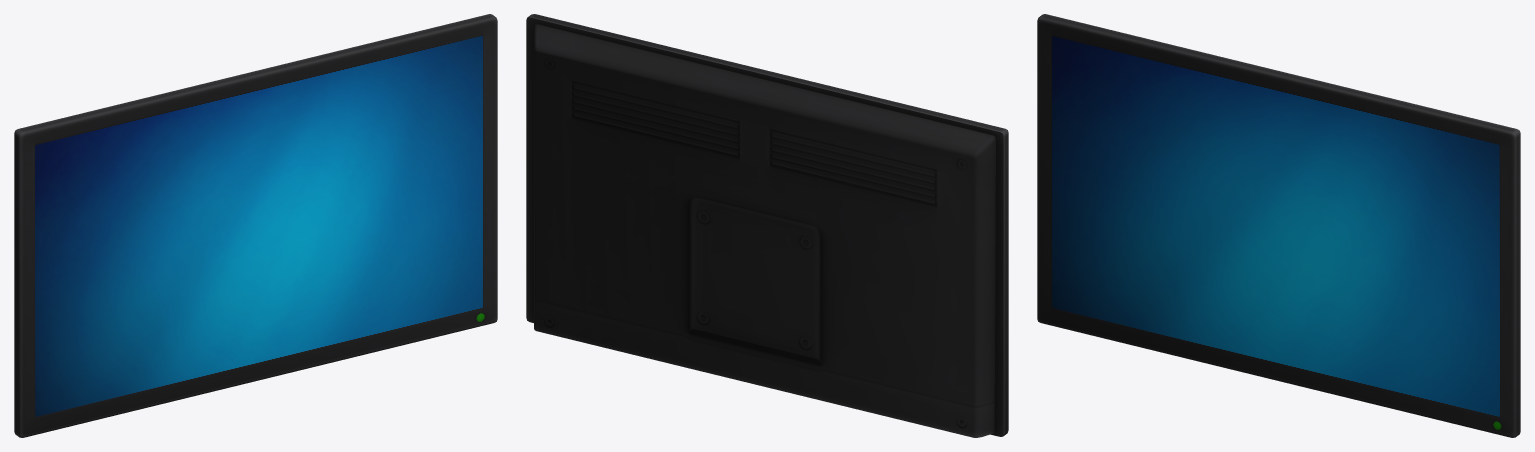
The model's file is OfficeTV01_1.FBX.
The picture shows the model from 3 angles, left to right: view 1: azimuth 30°, elevation 25°; view 2: azimuth 150°, elevation 25°; view 3: azimuth 330°, elevation 25°; orthographic projection.
Visible parts, largest first — view 1: OfficeTV01_1; view 2: OfficeTV01_1; view 3: OfficeTV01_1.
Part boxes in pixels (box(x1,y1,x2,y2)): OfficeTV01_1: box(14, 14, 497, 437); OfficeTV01_1: box(526, 14, 1008, 437); OfficeTV01_1: box(1037, 14, 1520, 437).
Size of what is drawn, in the model's own units: 1.38 by 0.8408 by 0.0776.
